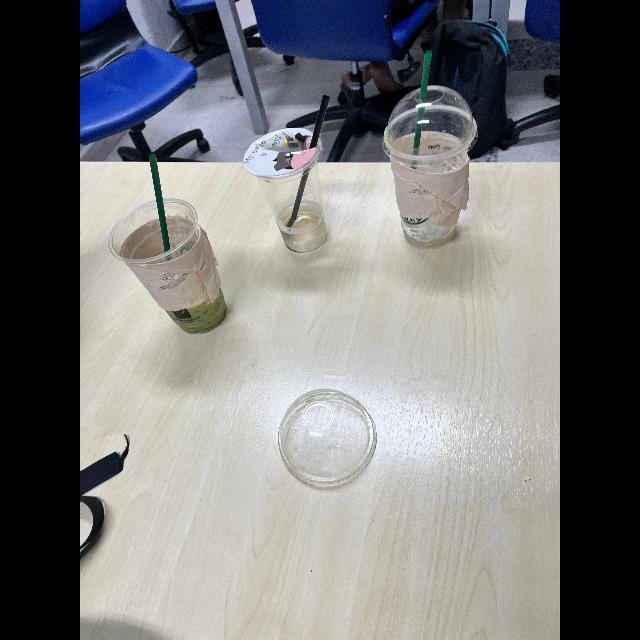plastic_cup: (112, 190, 232, 346), (374, 103, 488, 247), (234, 132, 352, 256)
plastic_cup_lid: (266, 376, 378, 494), (374, 80, 478, 162)
straw: (284, 81, 334, 233), (144, 143, 180, 269), (407, 44, 441, 166)
